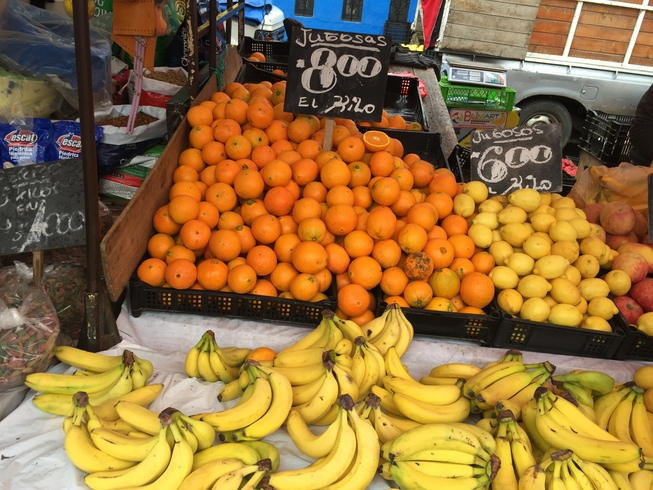precio: (281, 23, 398, 129), (467, 117, 569, 204)
